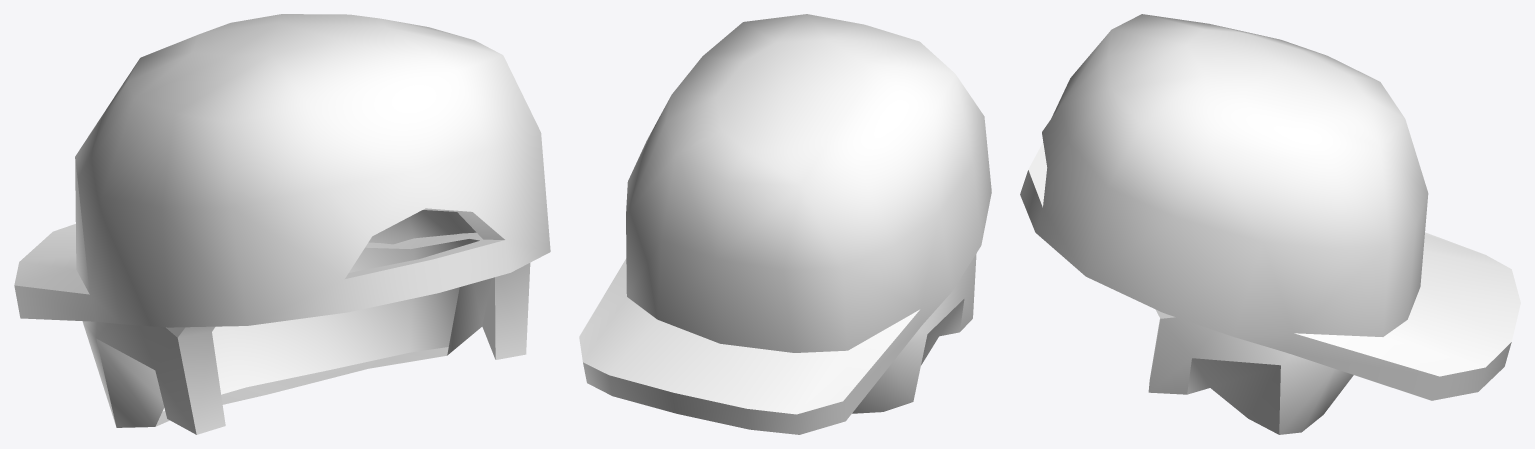
The model's file is Male_Hat_02_v2.fbx.
3 views of the same model, side by side, from view 1: azimuth 30°, elevation 25°; view 2: azimuth 150°, elevation 25°; view 3: azimuth 270°, elevation 25° (orthographic). The views are drawn at different scales.
Parts seen in each view (by area): view 1: Male_Hat_02_v2; view 2: Male_Hat_02_v2; view 3: Male_Hat_02_v2.
Boxes of the visible parts, x1,y1,x2,y2 form: Male_Hat_02_v2: [14, 14, 550, 434]; Male_Hat_02_v2: [579, 14, 991, 434]; Male_Hat_02_v2: [1020, 14, 1520, 434].
Size of the model in its own units: 55.5 by 57.66 by 76.03.
